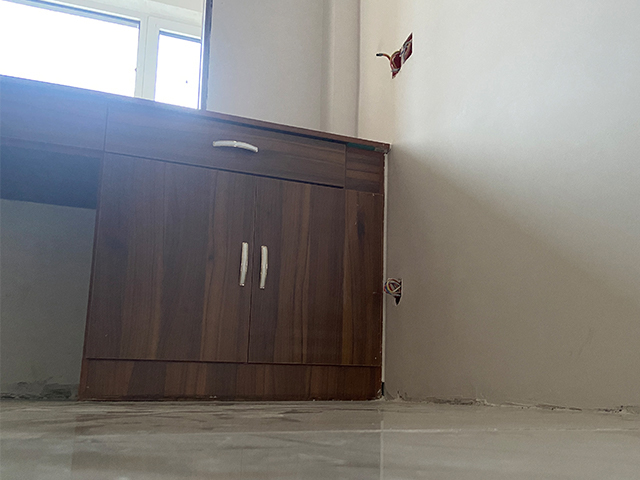cabinet: (1, 73, 392, 402)
